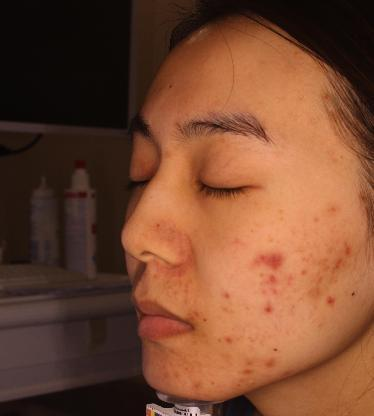Blackheads: (198, 313, 212, 326), (270, 342, 284, 355)
Dark-Spots: (347, 288, 360, 301)
Papules: (320, 290, 343, 311), (220, 330, 238, 350), (259, 300, 278, 318), (218, 287, 237, 304)
acne scar: (247, 249, 288, 276), (340, 237, 358, 258), (263, 351, 280, 373), (331, 254, 346, 278), (261, 272, 285, 286)
